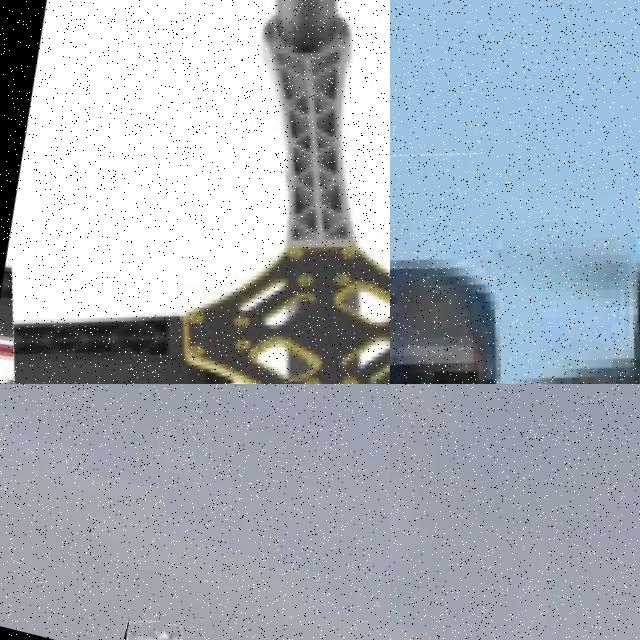0: (119, 614, 184, 640)
drone: (0, 0, 390, 384), (390, 80, 640, 384)
